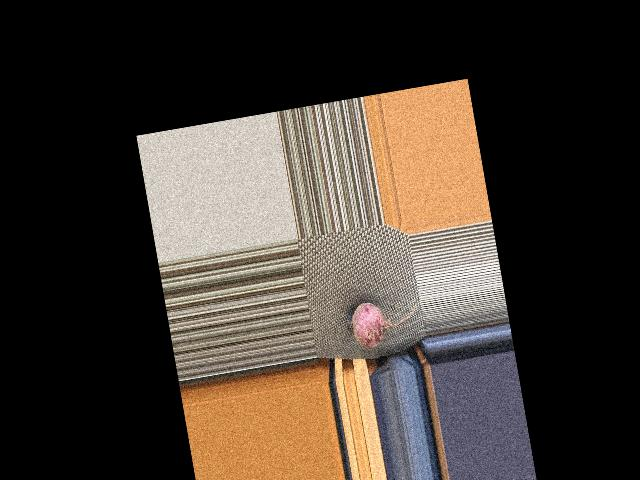beet: (342, 295, 420, 352)
